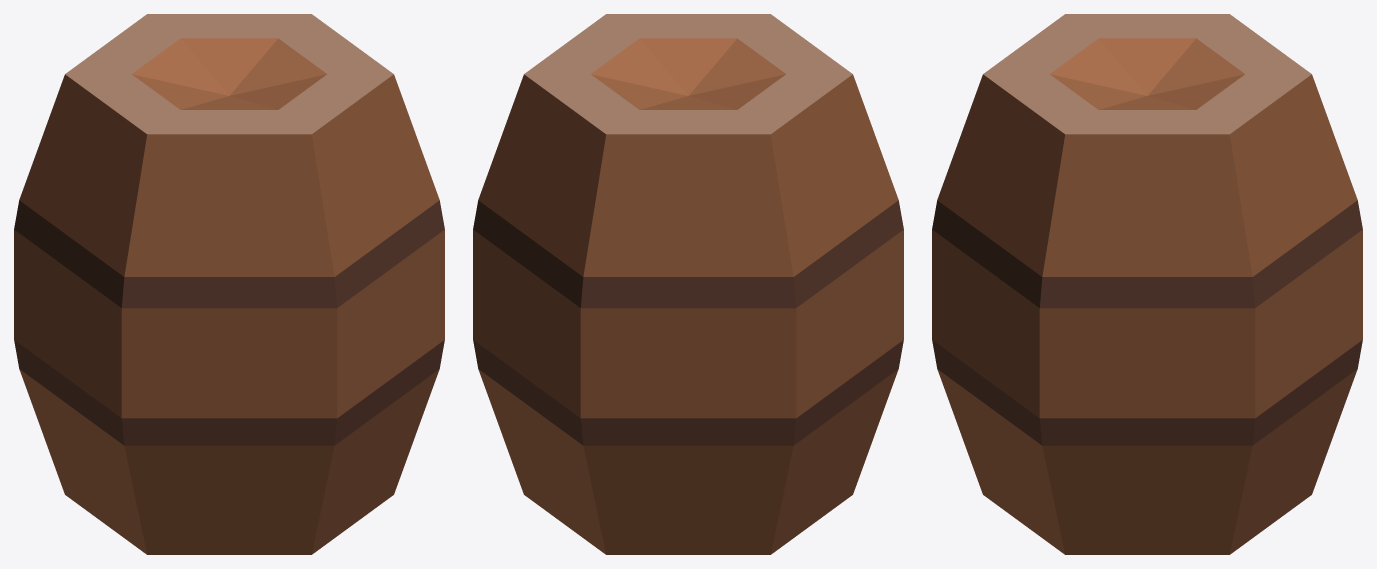
Rendered from TB_Prop_Barrel.FBX.
3 renders of one model, left to right at view 1: azimuth 30°, elevation 25°; view 2: azimuth 150°, elevation 25°; view 3: azimuth 270°, elevation 25°, orthographic.
Visible parts, largest first — view 1: TB_Prop_Barrel; view 2: TB_Prop_Barrel; view 3: TB_Prop_Barrel.
Boxes of the visible parts, x1=… form: TB_Prop_Barrel: x1=14, y1=14, x2=444, y2=554; TB_Prop_Barrel: x1=473, y1=14, x2=903, y2=554; TB_Prop_Barrel: x1=932, y1=14, x2=1362, y2=554.
Size of the model in its own units: 0.9026 by 1.12 by 1.04.
